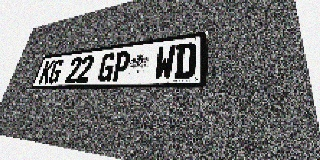2: (76, 55, 95, 83), (64, 57, 83, 83)
D: (173, 42, 197, 79)
G: (96, 52, 117, 82), (47, 59, 65, 84)
K: (38, 60, 55, 84)
P: (110, 50, 131, 82)
W: (153, 45, 176, 80)
